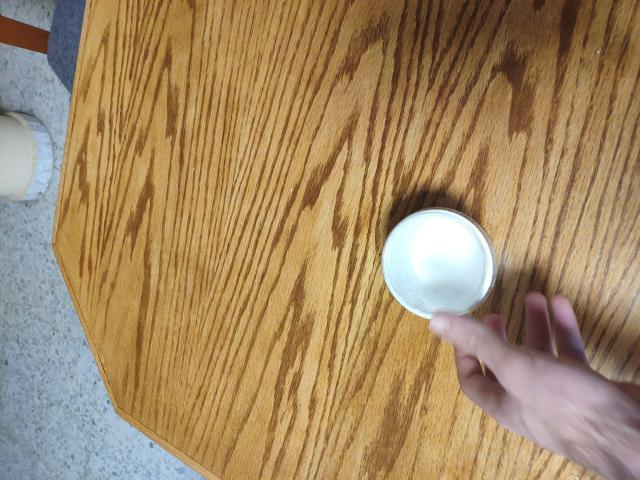cotage: (368, 200, 505, 338)
